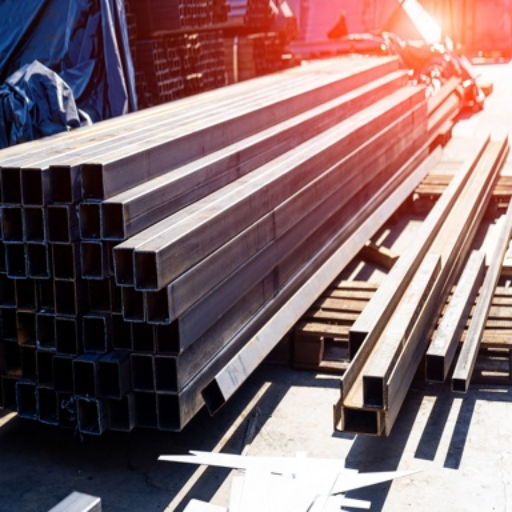Square: (344, 409, 376, 432), (136, 253, 156, 287), (159, 393, 178, 428), (51, 167, 70, 200), (156, 359, 176, 390), (23, 169, 41, 203), (103, 204, 122, 236), (75, 363, 94, 395), (99, 363, 118, 395), (136, 392, 155, 424), (148, 288, 166, 320), (57, 319, 75, 351), (157, 321, 176, 351), (55, 245, 72, 278), (57, 281, 75, 312), (86, 319, 104, 350), (50, 208, 67, 240), (135, 356, 152, 388), (84, 165, 102, 195), (116, 249, 132, 282), (3, 208, 20, 239), (83, 244, 100, 275), (124, 287, 141, 318), (204, 382, 223, 409), (25, 209, 42, 239), (111, 398, 128, 428), (80, 400, 97, 430), (83, 205, 99, 236), (8, 244, 24, 275), (4, 169, 19, 202), (133, 325, 152, 350), (114, 316, 129, 347), (31, 245, 46, 275), (19, 313, 34, 342), (56, 359, 71, 388), (365, 379, 382, 404), (40, 389, 54, 419), (1, 275, 15, 304), (19, 385, 33, 414), (39, 316, 53, 344), (93, 283, 107, 308), (427, 357, 442, 379), (39, 353, 51, 380), (20, 281, 32, 306), (40, 285, 52, 309), (112, 281, 120, 310), (453, 380, 464, 391), (1, 245, 4, 266), (110, 247, 112, 269)
